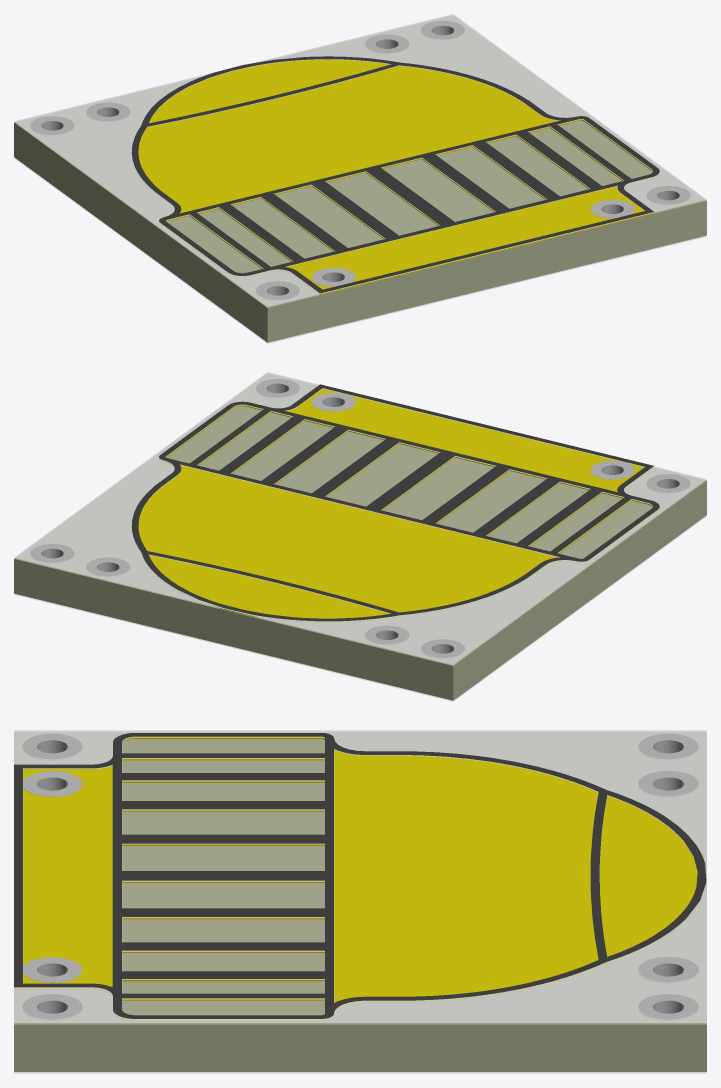
File: personal-berlymib-minibadge.glb
3 views of the same model, one above another, from view 1: azimuth 30°, elevation 25°; view 2: azimuth 150°, elevation 25°; view 3: azimuth 270°, elevation 25° (orthographic). The views are drawn at different scales.
Parts seen in each view (by area): view 1: =>[0:1:1:8], =>[0:1:1:2], =>[0:1:1:6], =>[0:1:1:4]; view 2: =>[0:1:1:8], =>[0:1:1:2], =>[0:1:1:6], =>[0:1:1:4]; view 3: =>[0:1:1:8], =>[0:1:1:2], =>[0:1:1:6], =>[0:1:1:4].
Part boxes in pixels (x1,y1,x2,y2): =>[0:1:1:8]: (14,16,706,342); =>[0:1:1:2]: (30,21,690,300); =>[0:1:1:6]: (14,14,706,343); =>[0:1:1:4]: (131,56,659,293); =>[0:1:1:8]: (14,374,706,700); =>[0:1:1:2]: (30,379,690,658); =>[0:1:1:6]: (14,372,706,701); =>[0:1:1:4]: (131,384,659,621); =>[0:1:1:8]: (14,732,706,1071); =>[0:1:1:2]: (14,734,699,1020); =>[0:1:1:6]: (14,730,706,1073); =>[0:1:1:4]: (14,733,706,1018).
Bounding box in the file's own units: 0.02 × 0.00166 × 0.02.
Materials: 4 (4 with a texture image).
